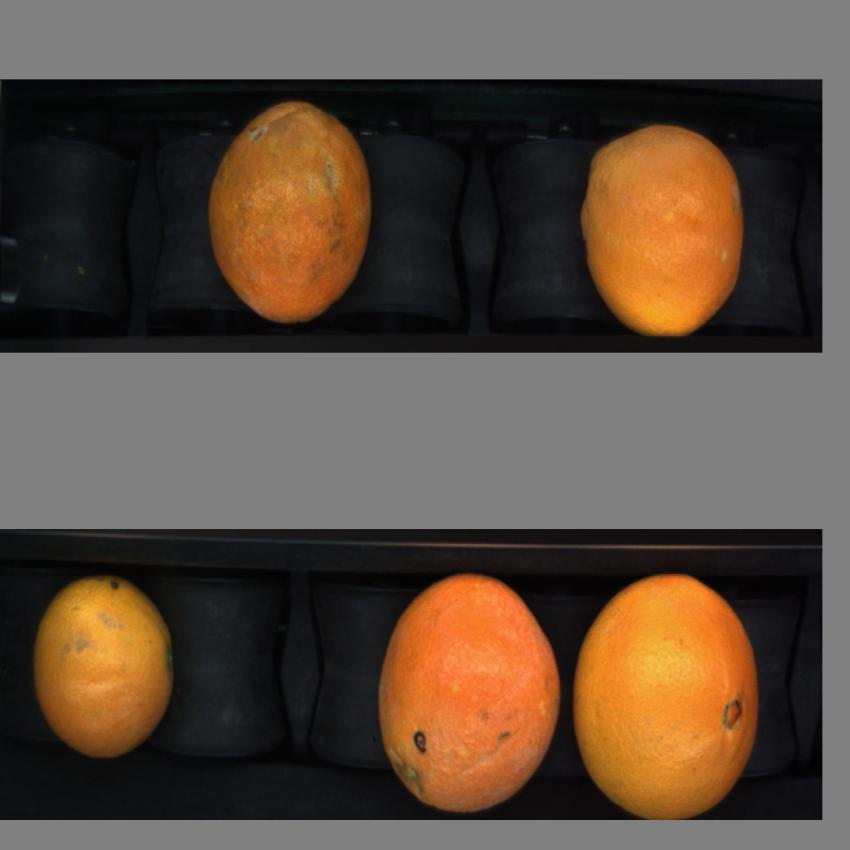Buen estado: (567, 567, 769, 821), (373, 576, 565, 818), (571, 119, 747, 352), (25, 564, 200, 764)
Mal estado: (205, 96, 390, 318)
